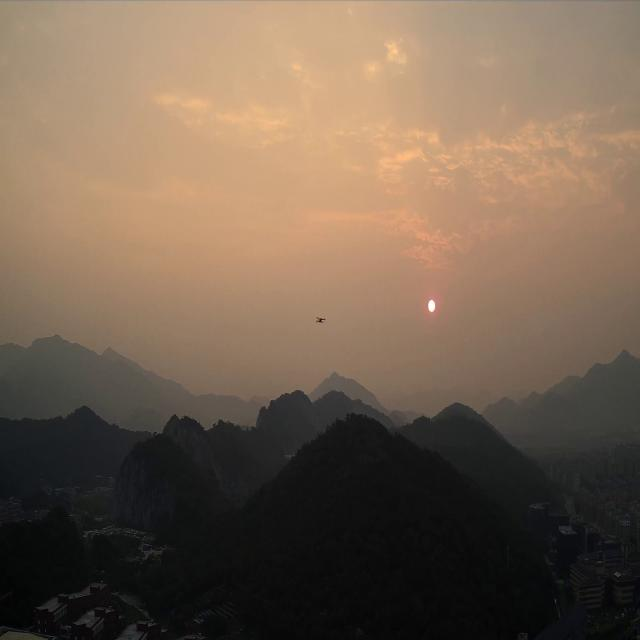drone: (316, 316, 326, 324)
